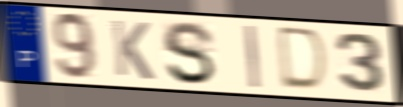3: (333, 31, 387, 95)
9: (51, 10, 100, 83)
D: (278, 24, 331, 94)
I: (243, 23, 263, 91)
K: (109, 17, 156, 83)
S: (161, 20, 218, 88)
